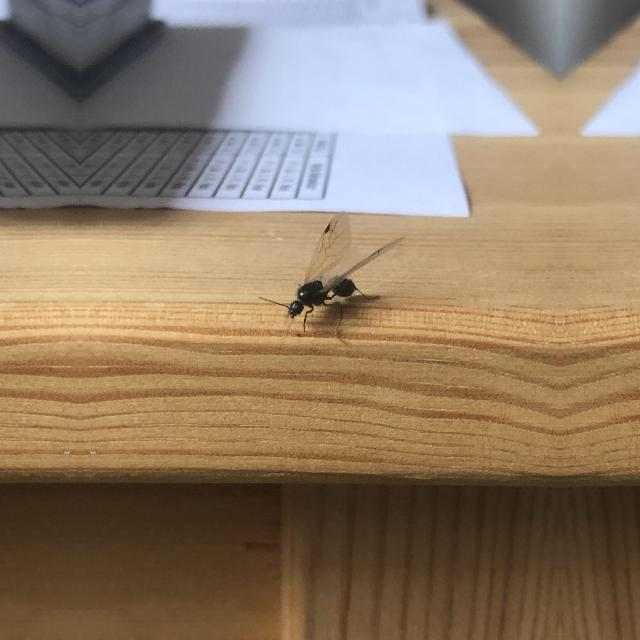Messor: (282, 261, 358, 329)
